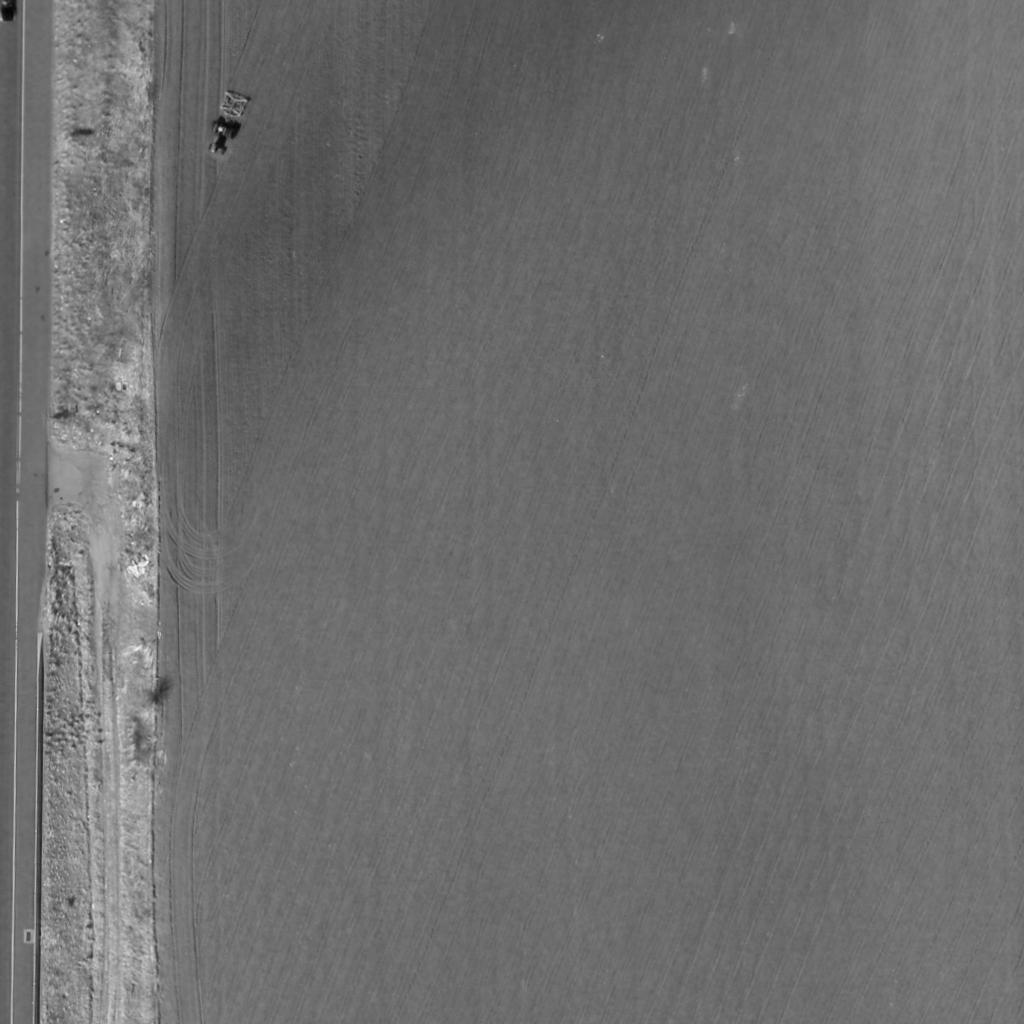vehicle: (200, 120, 238, 158)
